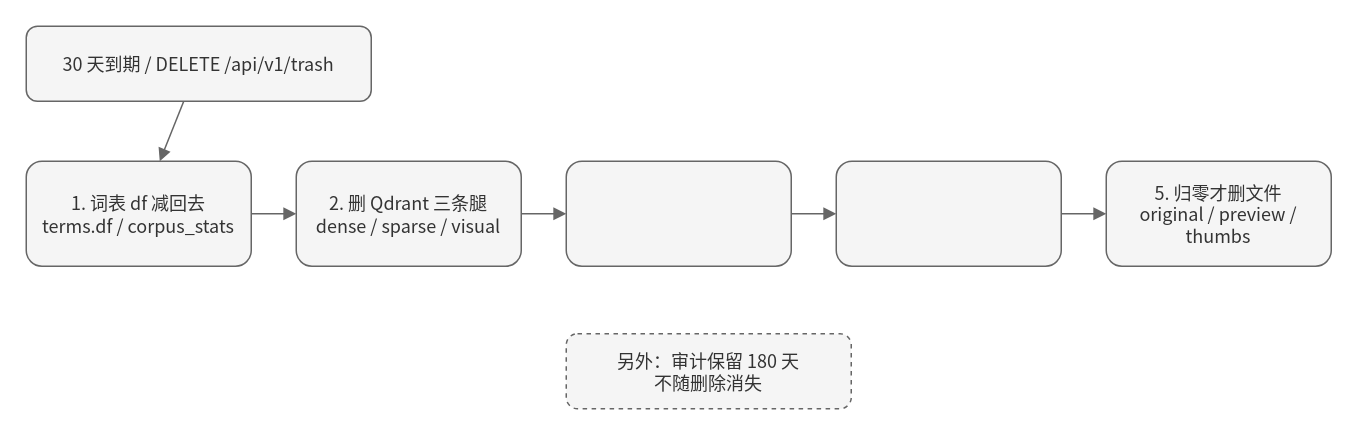
The diagram is 1358 pixels wide and 435 high, and some of its shapes have lost their labels. The shapes that lost their labels are listed below. From the top down, each one's box as (x1, y1, x2, y2) in pixels, then its label:
(565, 160, 791, 266): 3. 删 documents 行 chunks / jobs 级联
(835, 160, 1061, 266): 4. blob ref_count − 1
